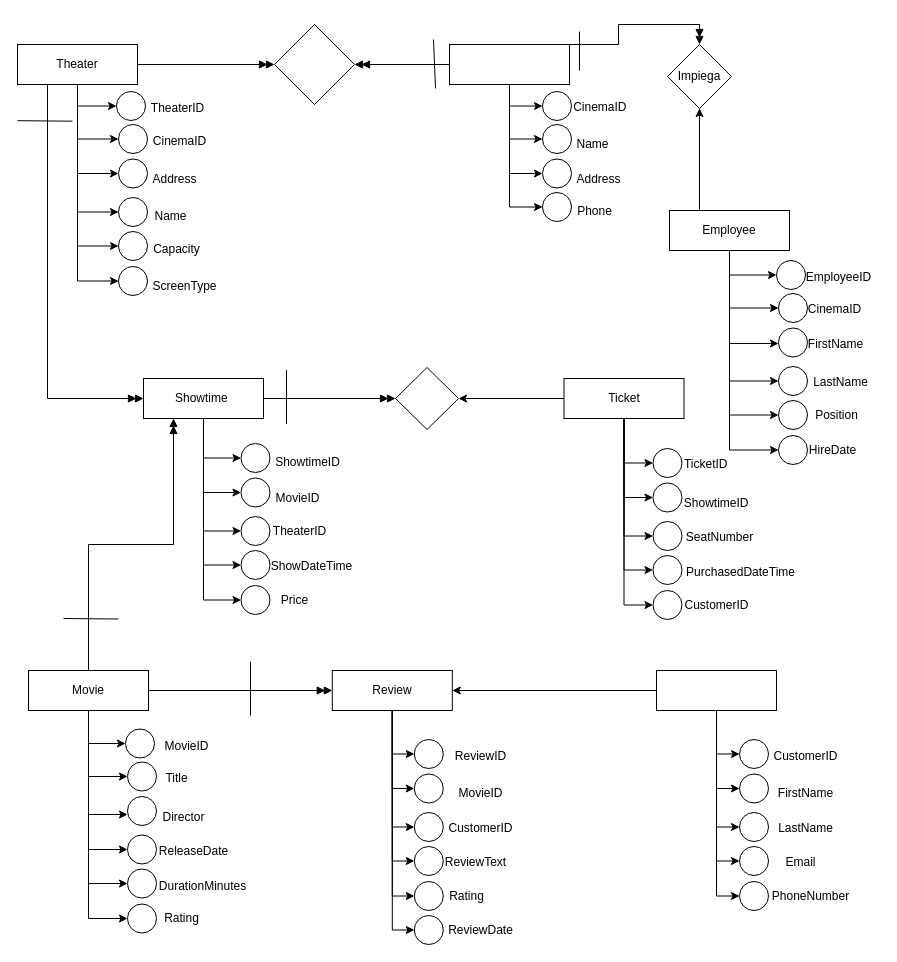
The diagram is 897 pixels wide and 962 high, and some of its shapes have lost their labels. The centre of each missing label's shape, as x and y in pixels:
"Cinema" goes at [509,64].
"Contiene" goes at [314,64].
"Customer" goes at [716,690].
"ha" goes at [426,398].
